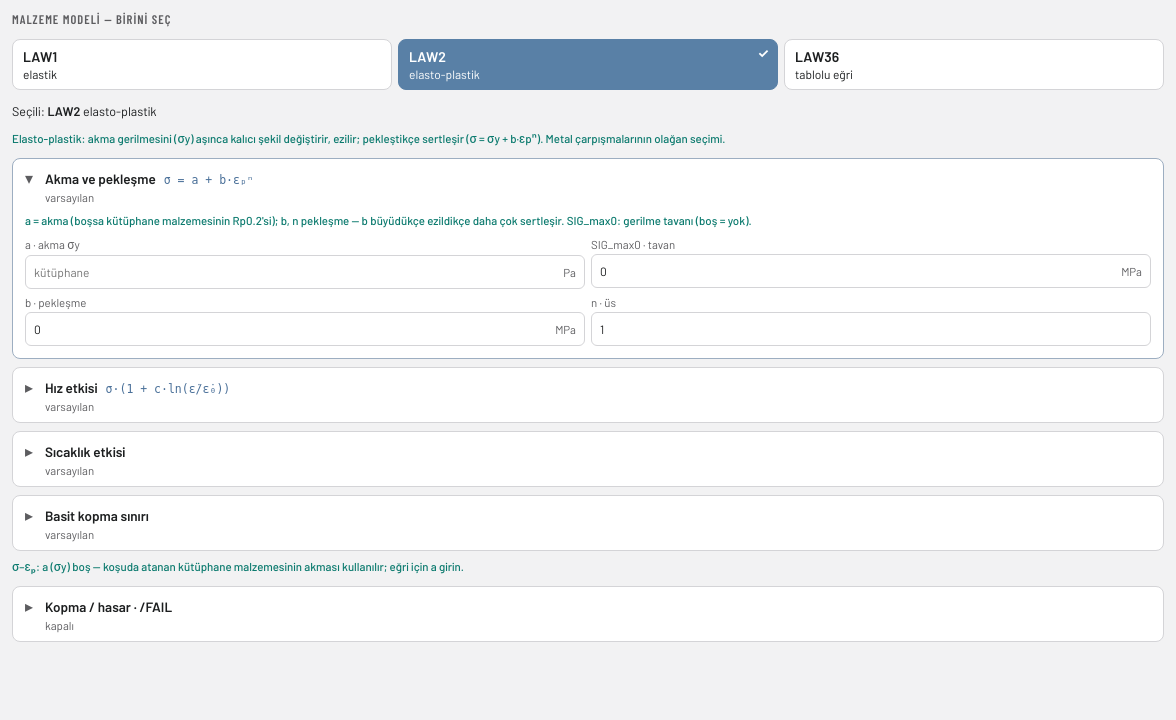
CrashMaterialCard · LAW seçici (kullanıcı 2026-10-08) › seçili model ✓ ve 'Seçili:' satırıyla görünür; tıklayınca değişir
The width and height of the screenshot is (1176, 720).
Expected: the button with aria-label "LAW2 plastik" shows "✓", 398,39 -> 778,90
Expected: the element with test id "crash-law-selected" reads "Seçili: LAW2 elasto-plastik", 12,103 -> 157,119
Click the button "LAW1 elastik" at (40, 56), box 12,39 -> 392,90
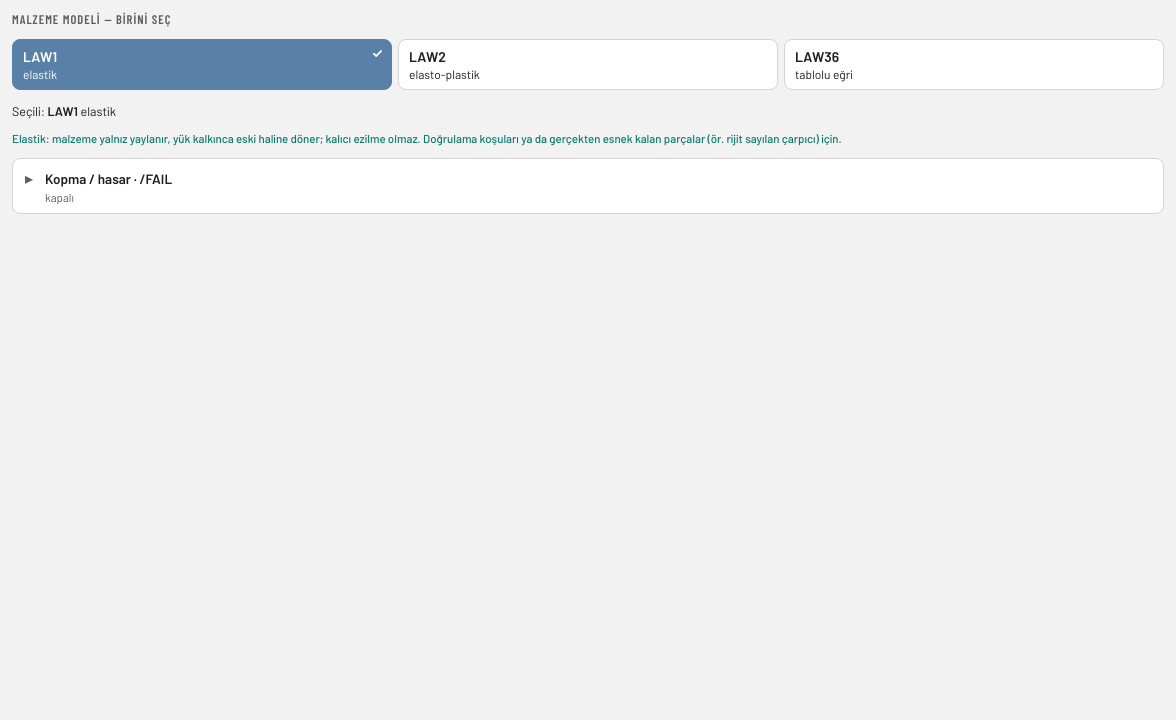
Now the element with test id "crash-law-selected" reads "Seçili: LAW1 elastik", box 12,103 -> 116,119
